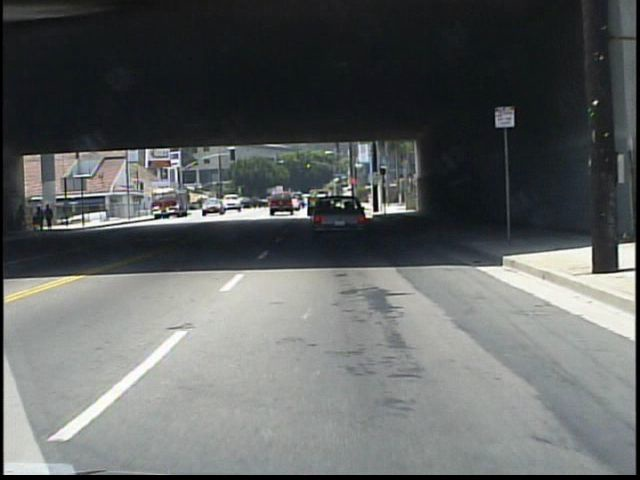person: (31, 204, 44, 232), (16, 203, 27, 235), (44, 204, 55, 233)
